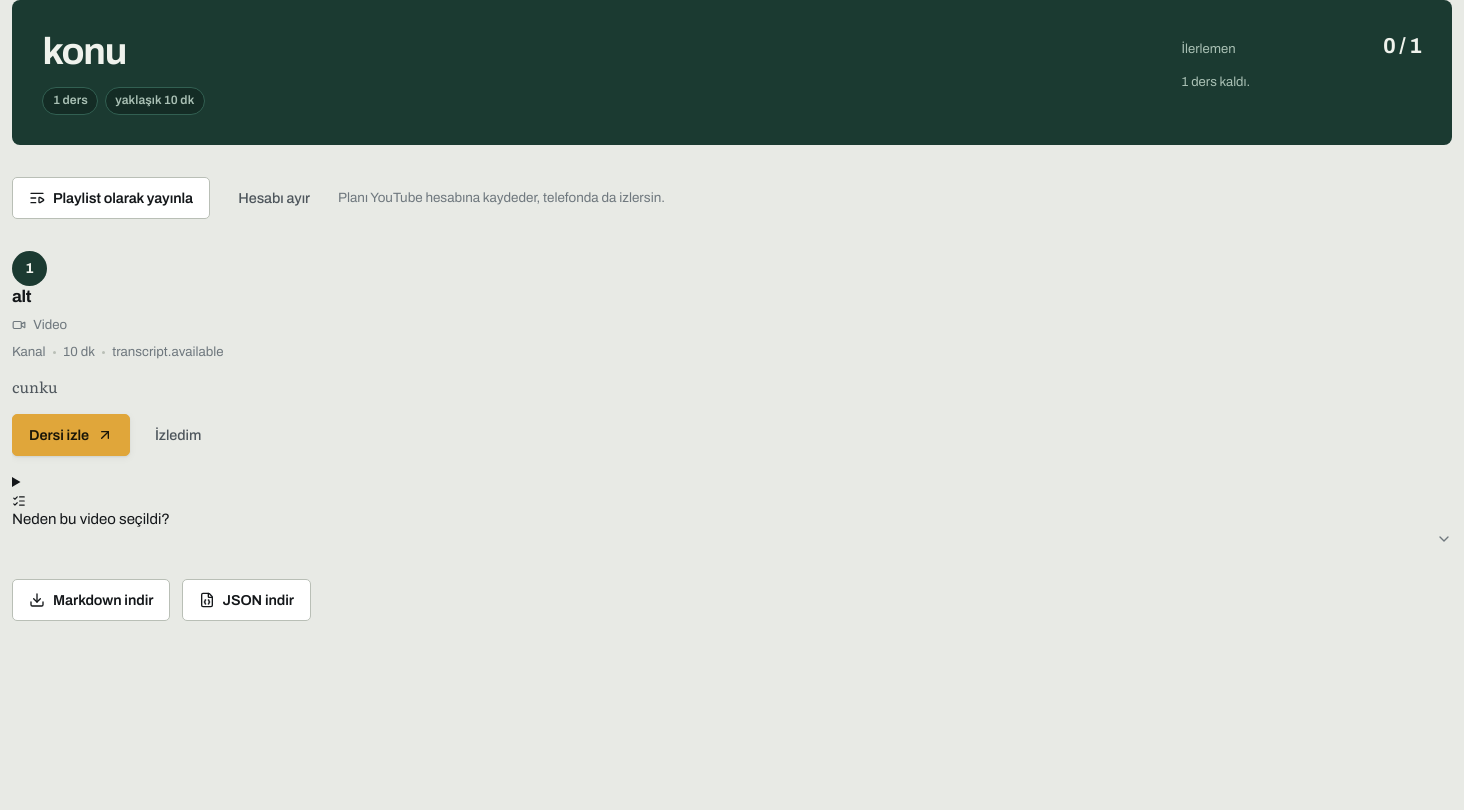
Scenario: RunResult / PublishPanel › baska bir calistirmaya gecince yayinlama hatasi ekranda kalmaz
Click the button "Playlist olarak yayınla": (111, 198) 12,177 -> 210,219
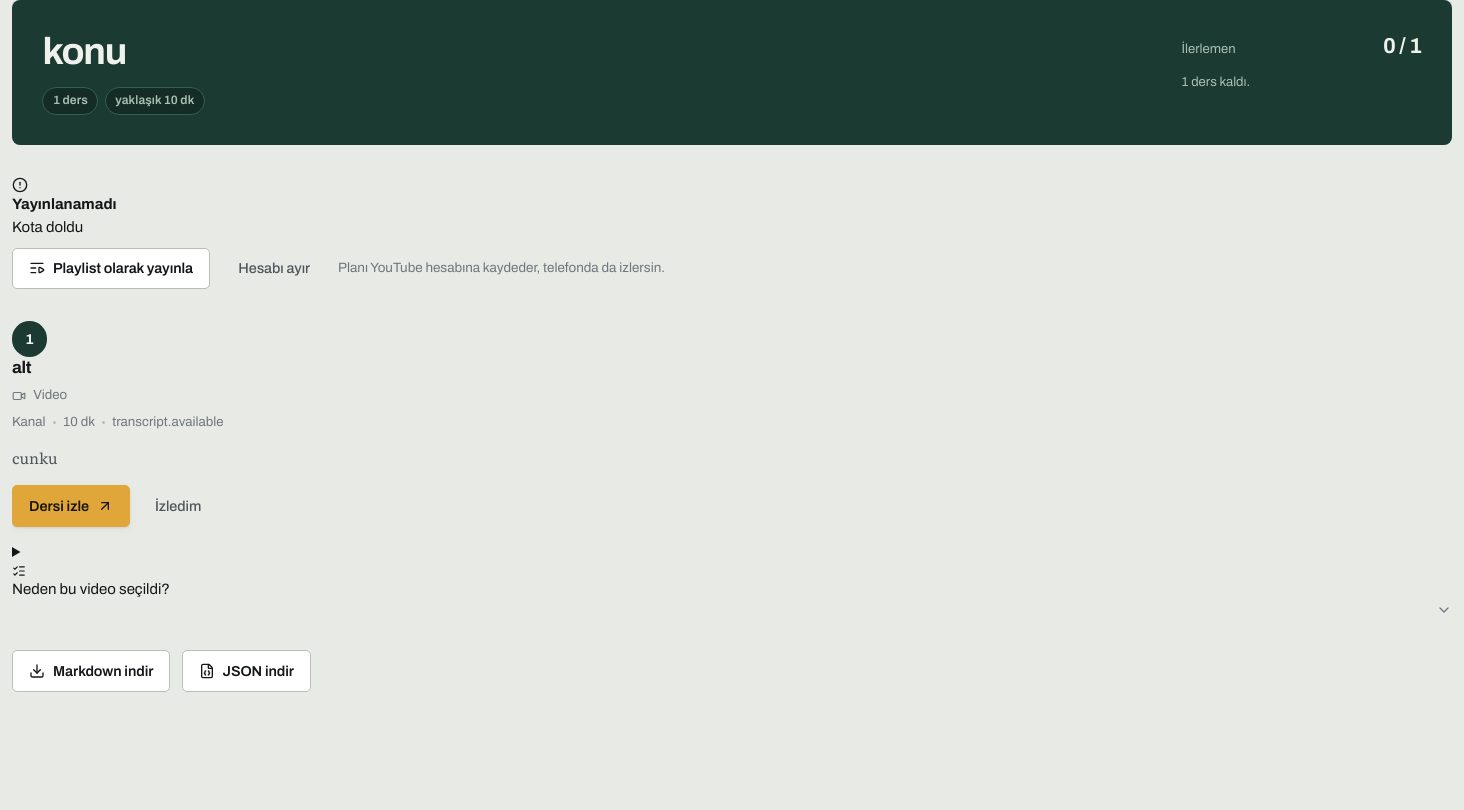
Expected: the text "Kota doldu" is shown, 12,219 -> 83,235
